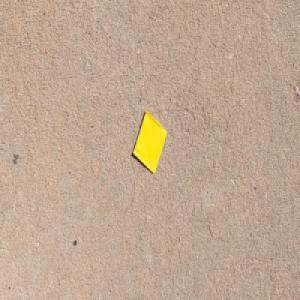PlasticPart: (132, 108, 168, 175)
